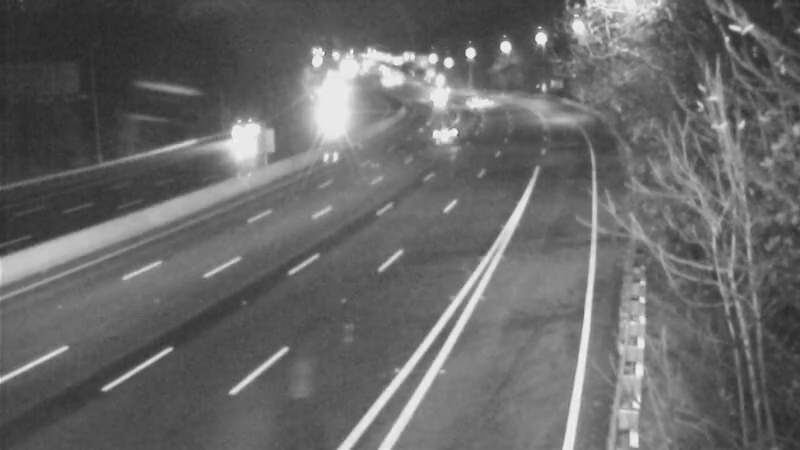vehicle: (420, 62, 470, 112), (409, 75, 459, 125), (453, 78, 503, 128), (419, 109, 469, 159), (210, 108, 260, 158), (310, 92, 360, 142)
